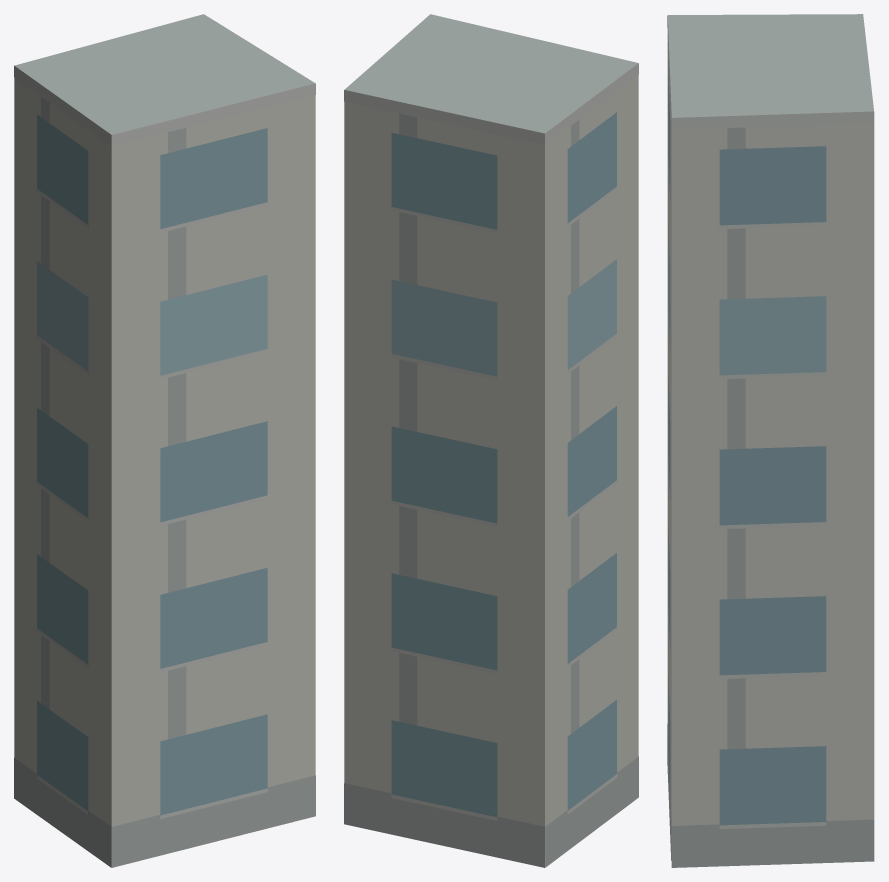
The model's file is survey-upis-32820337.glb.
The picture shows the model from 3 angles, left to right: view 1: azimuth 30°, elevation 25°; view 2: azimuth 150°, elevation 25°; view 3: azimuth 270°, elevation 25°; orthographic projection. The views are drawn at different scales.
Parts seen in each view (by area): view 1: survey-upis-32820337.tmp; view 2: survey-upis-32820337.tmp; view 3: survey-upis-32820337.tmp.
Boxes of the visible parts, box(x1,y1,x2,y2) form: survey-upis-32820337.tmp: box(14, 14, 315, 867); survey-upis-32820337.tmp: box(344, 14, 638, 867); survey-upis-32820337.tmp: box(667, 14, 874, 867).
Bounding box in the file's own units: 4.54 × 15.25 × 3.82.
